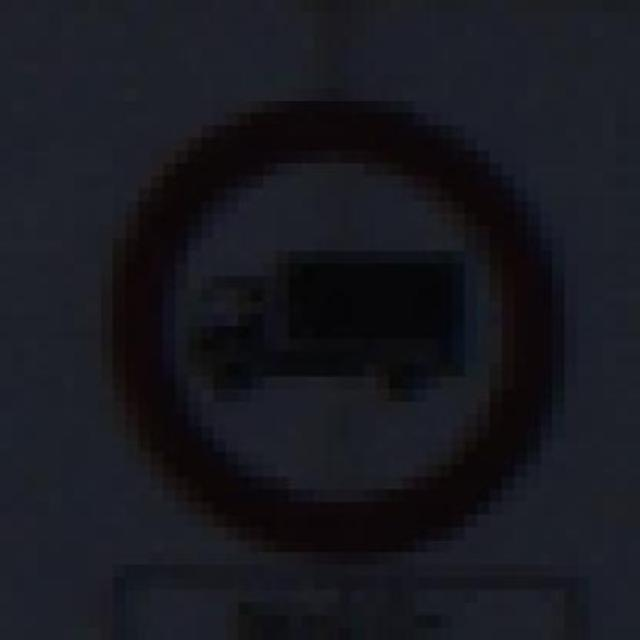Truck traffic is prohibited: (100, 76, 565, 564)
